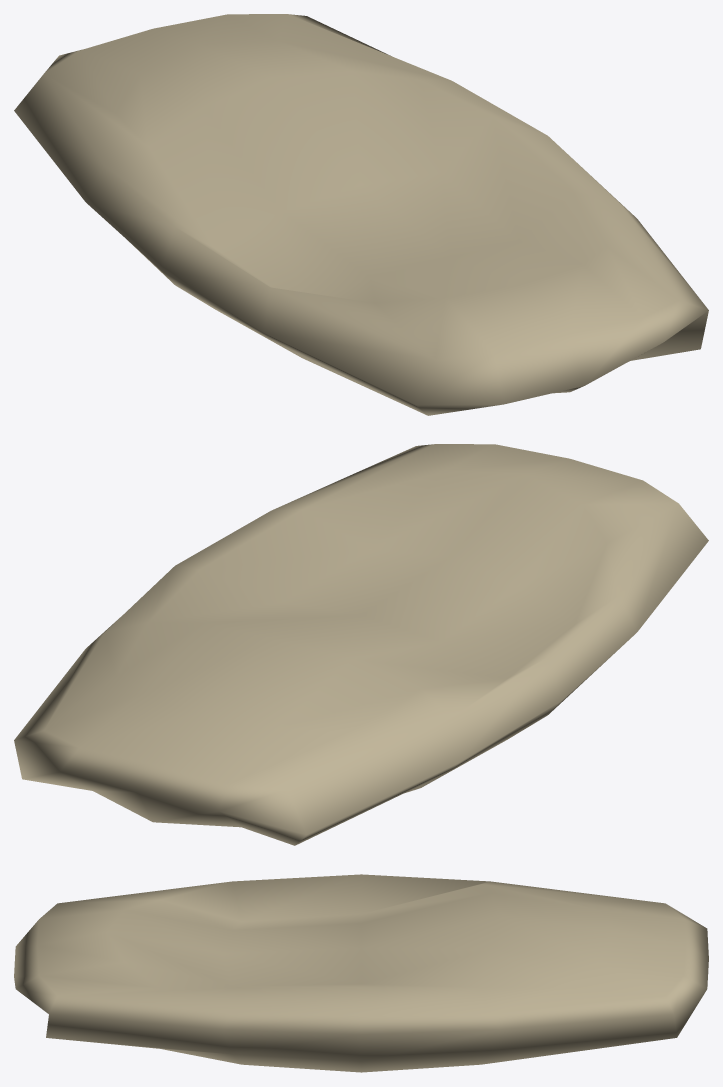
The model's file is Pillow.fbx.
3 views of the same model, one above another, from view 1: azimuth 30°, elevation 25°; view 2: azimuth 150°, elevation 25°; view 3: azimuth 270°, elevation 25° (orthographic). The views are drawn at different scales.
Visible parts, largest first — view 1: Pillow; view 2: Pillow; view 3: Pillow.
Part boxes in pixels (box(x1,y1,x2,y2)): Pillow: box(14, 14, 708, 415); Pillow: box(14, 444, 708, 845); Pillow: box(14, 874, 708, 1072).
Bounding box in the file's own units: 27.12 × 10.18 × 52.5.
